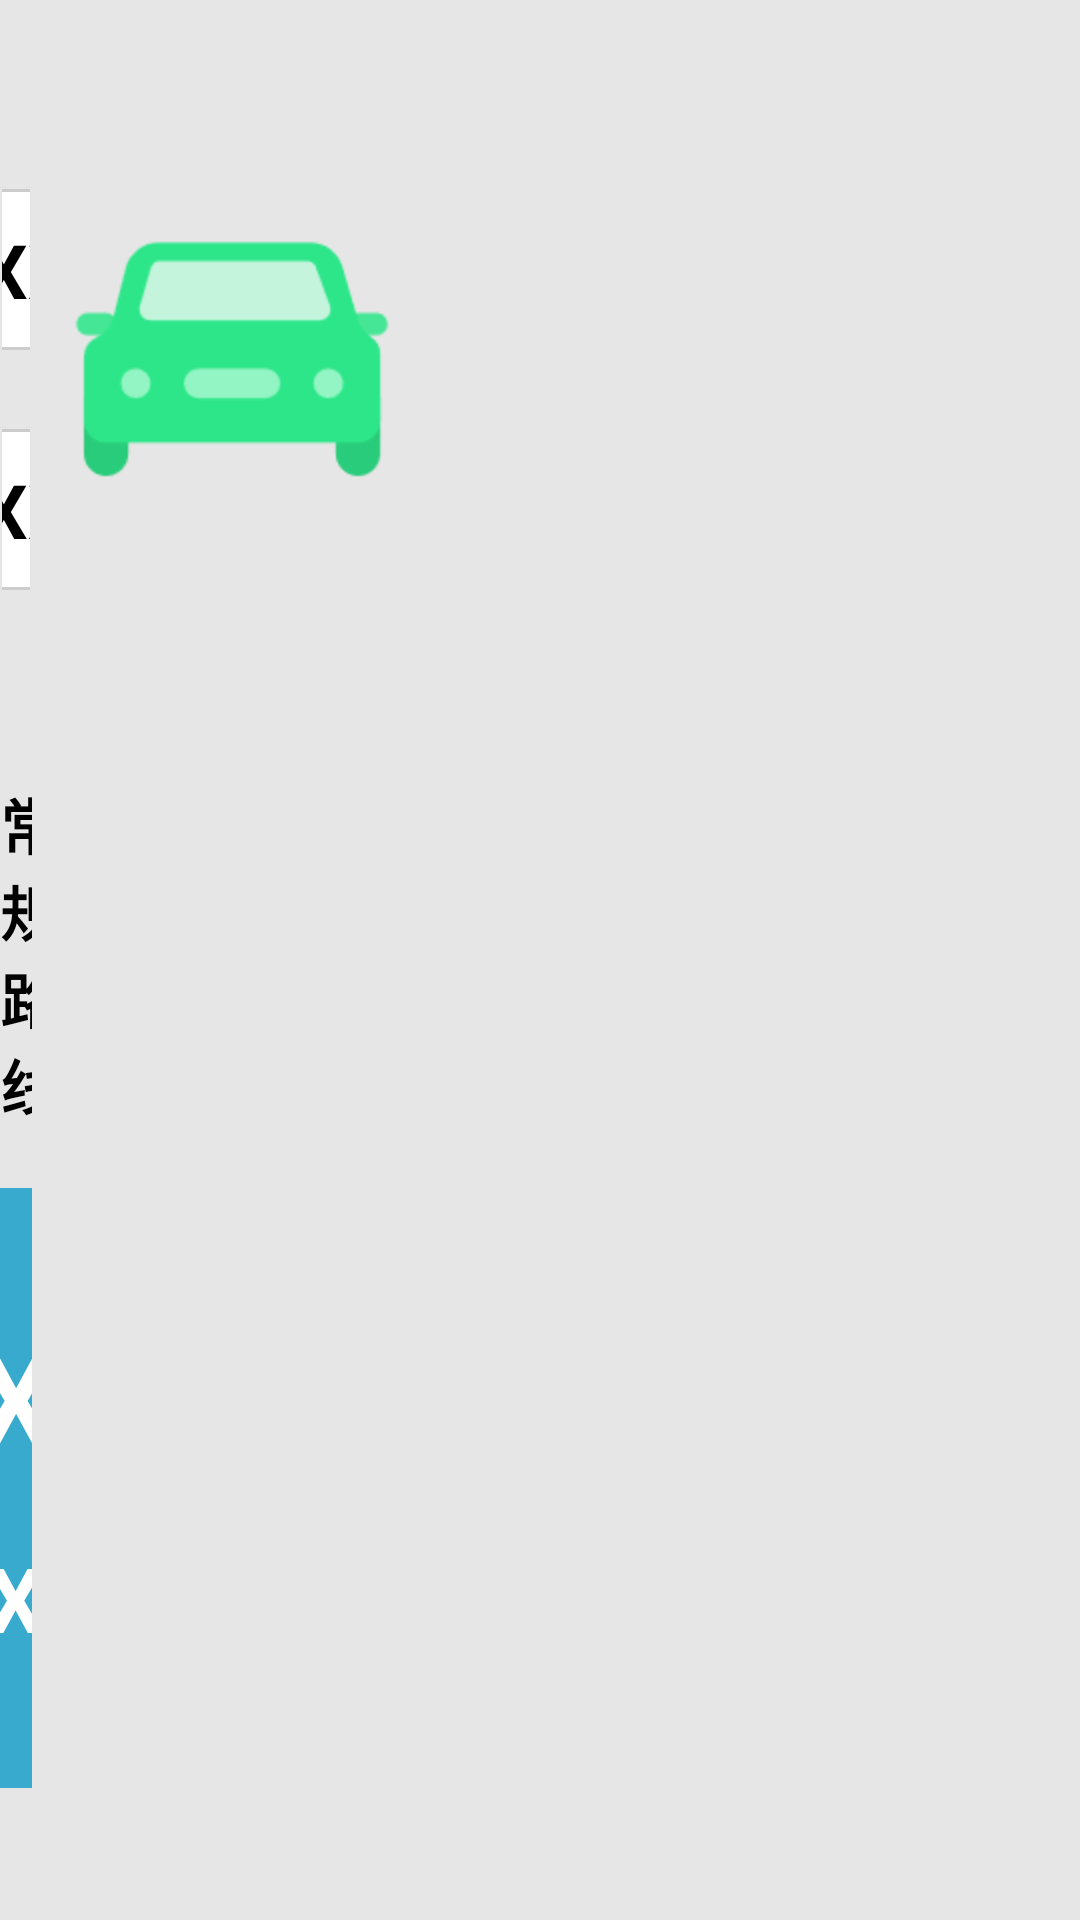

Screen size 1080w x 1920h. Icon name, then its box in pixels as bbox=[x1, y1, x2, y2]:
car: bbox=[75, 241, 389, 477]
